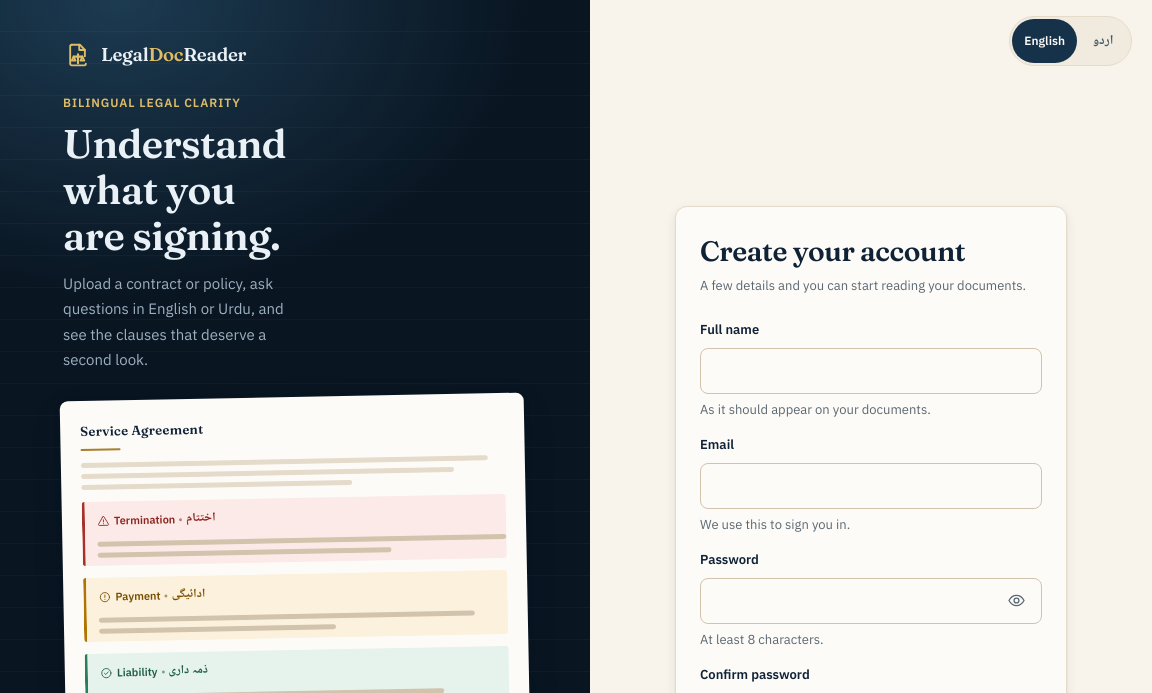
SignUp form › validates on blur, not while the field is first being typed in
Step 1. Type "nope" into the field labelled "Email" → [871, 486], box [700,463,1042,509]
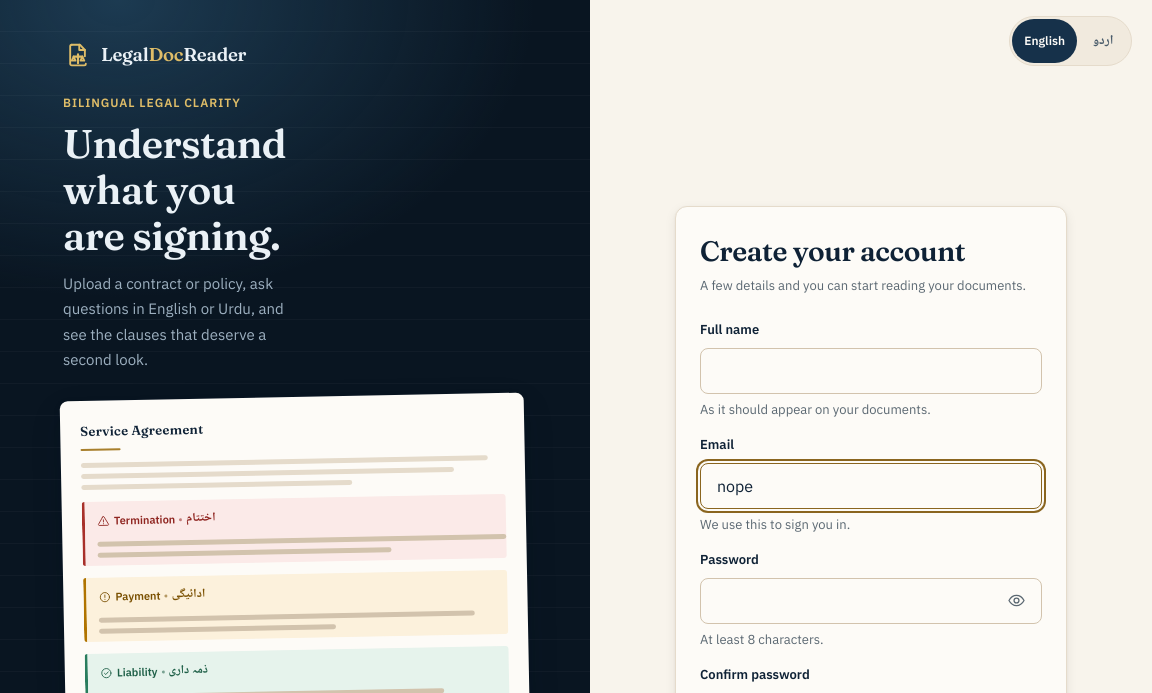
expect the text "Enter a valid email address, like name@example.com." is not shown: met
Step 2. Press Tab
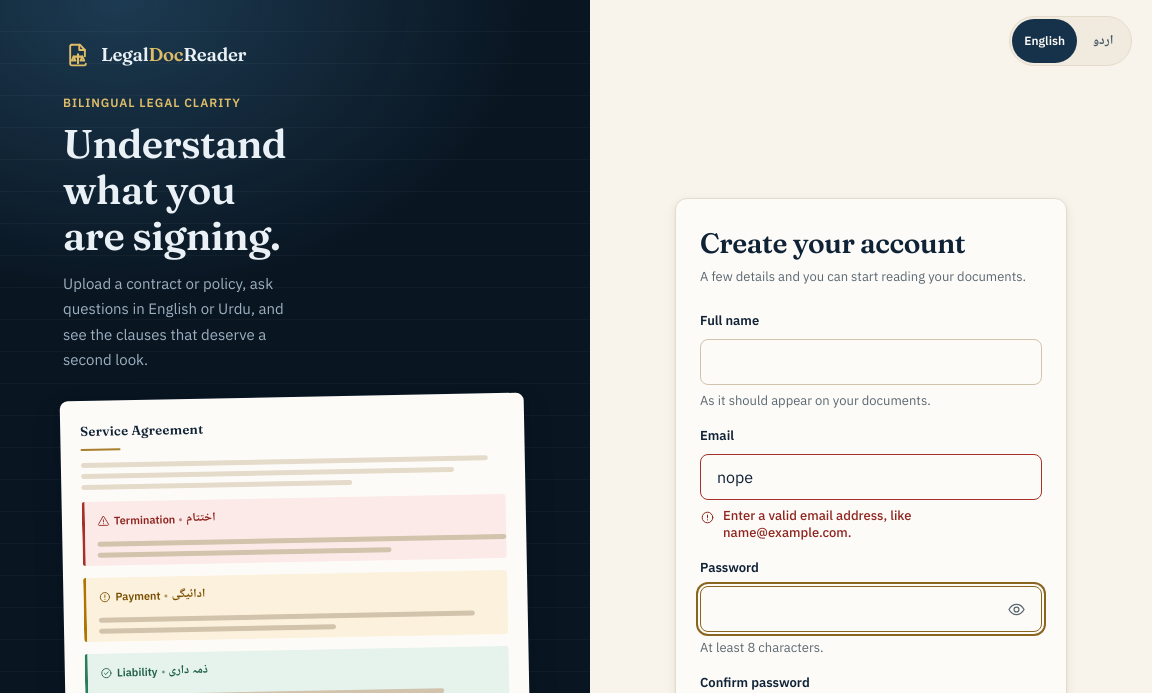
expect the text "Enter a valid email address, like name@example.com." is shown: met, box [723,508,911,541]
